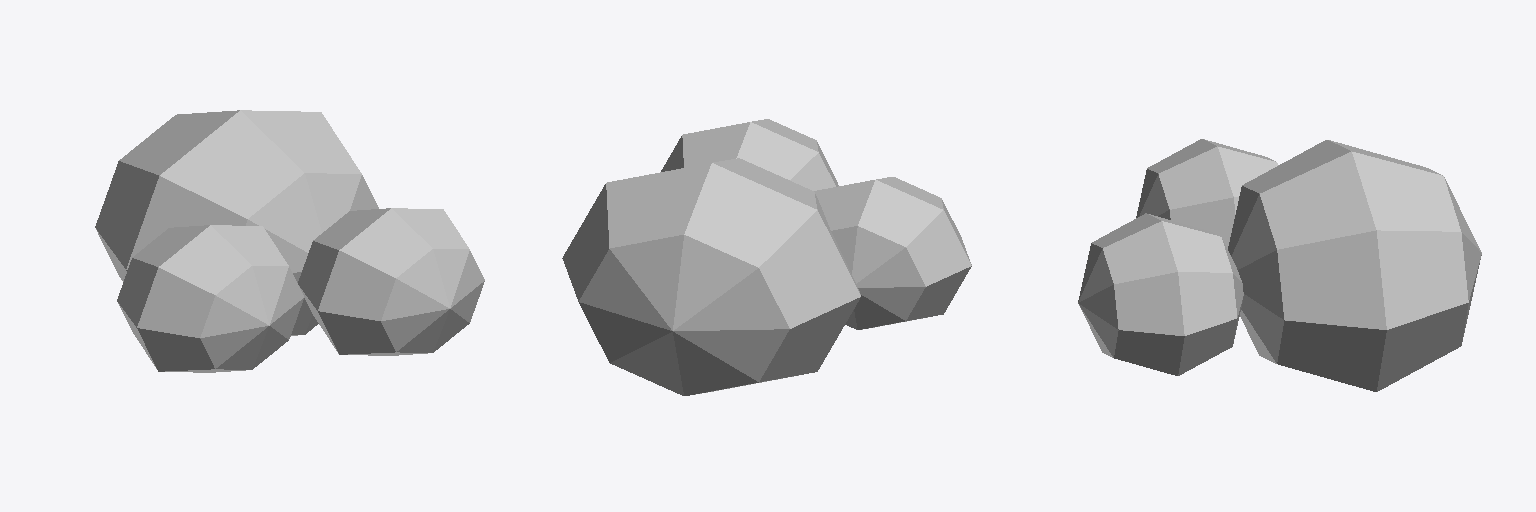
The model's file is obstacle.obj.
3 renders of one model, left to right at view 1: azimuth 30°, elevation 25°; view 2: azimuth 150°, elevation 25°; view 3: azimuth 270°, elevation 25°, orthographic.
Visible parts, largest first — view 1: obstacle.obj; view 2: obstacle.obj; view 3: obstacle.obj.
Part boxes in pixels (left/top/right/bottom): obstacle.obj: left=95, top=110, right=484, bottom=372; obstacle.obj: left=562, top=119, right=971, bottom=395; obstacle.obj: left=1078, top=139, right=1481, bottom=391.
Size of the model in its own units: 0.4016 by 0.2721 by 0.435.